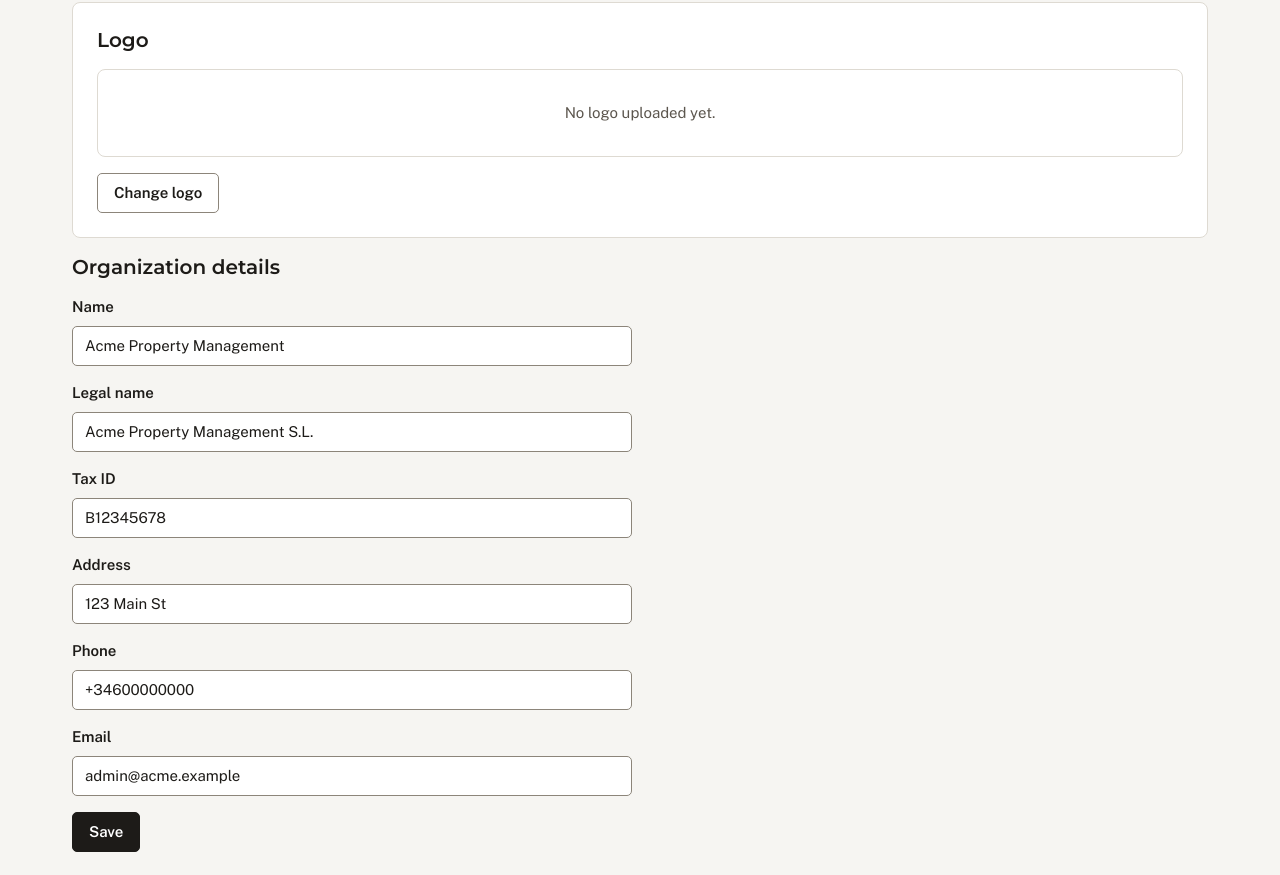
OrganizationProfilePage route access › design system › shows the save confirmation inside a status region that was on the page before the save
The image size is (1280, 875).
(page scrolled)
Click the button with test id "organization-profile-submit". click: (106, 832)
box: [72,812,140,852]
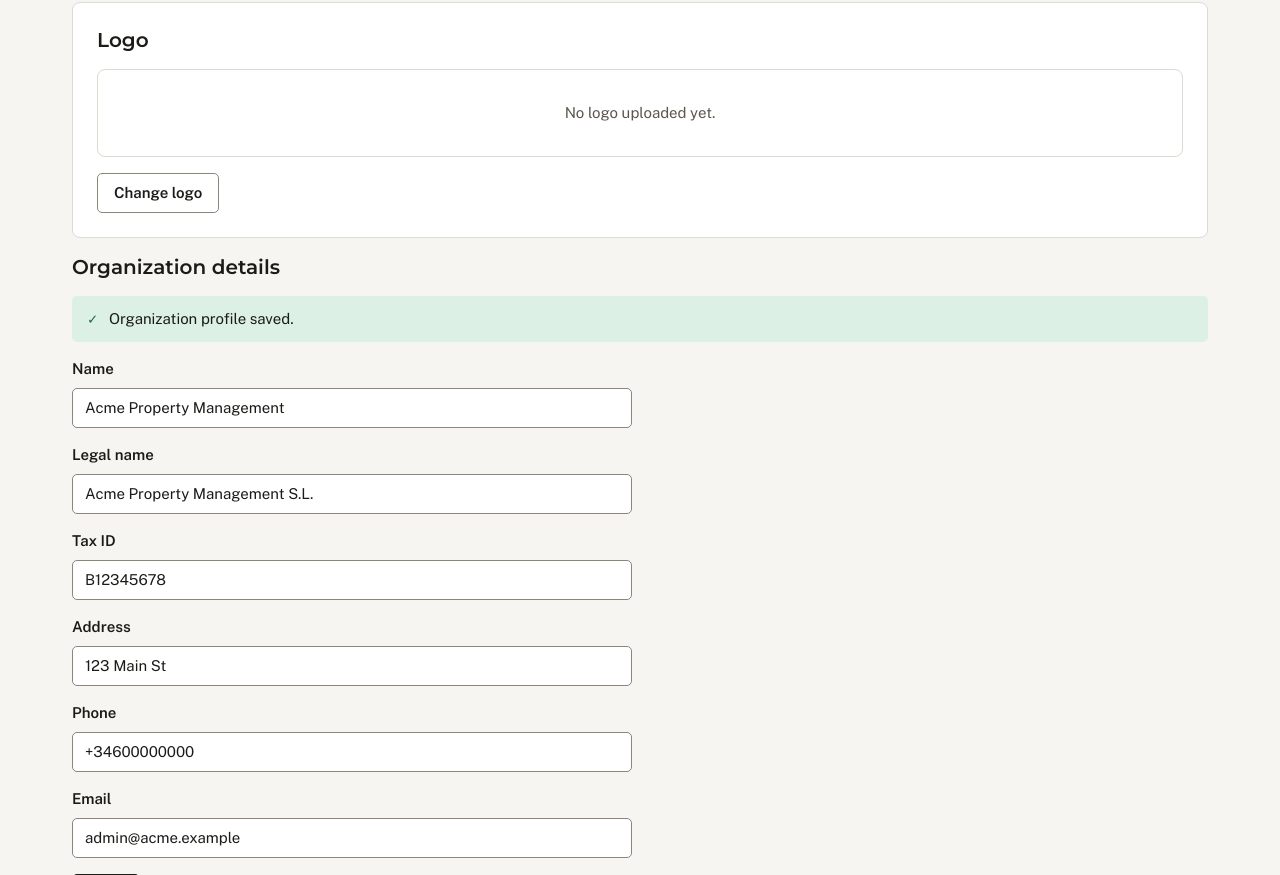
Now the number of messages is 1, box [72,296,1208,342]
